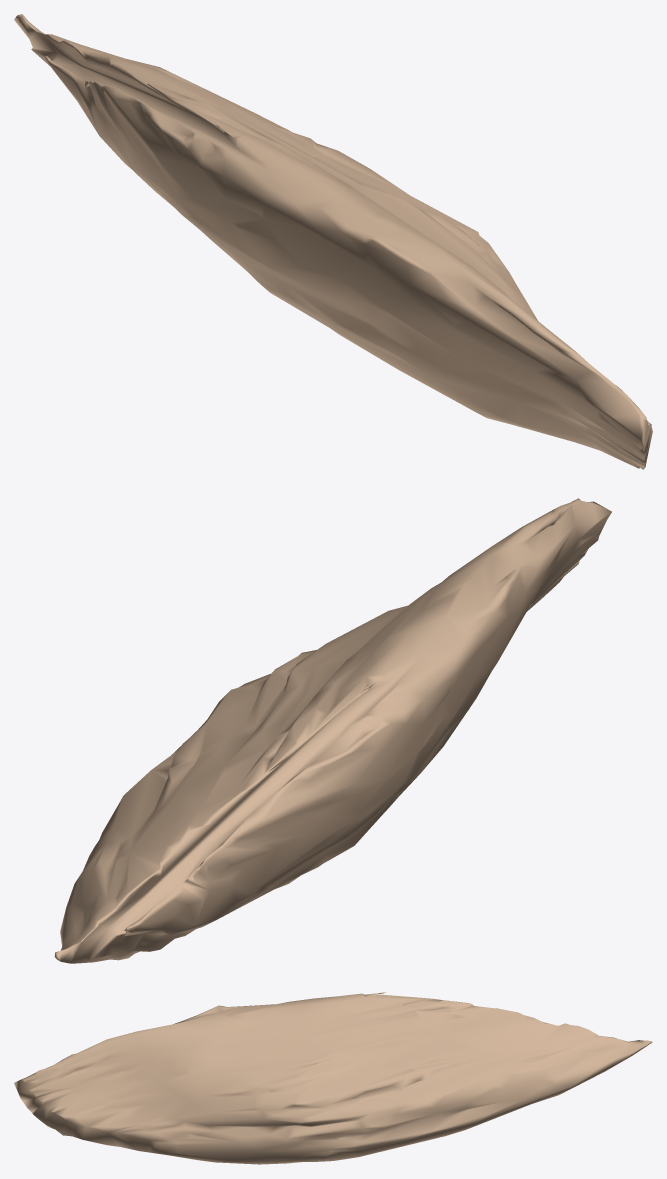
3 renders of one model, top to bottom at view 1: azimuth 30°, elevation 25°; view 2: azimuth 150°, elevation 25°; view 3: azimuth 270°, elevation 25°, orthographic. The views are drawn at different scales.
Visible parts, largest first — view 1: 右侧阔筋膜张肌; view 2: 右侧阔筋膜张肌; view 3: 右侧阔筋膜张肌.
Boxes of the visible parts, x1,y1,x2,y2 form: 右侧阔筋膜张肌: (14,14,652,469); 右侧阔筋膜张肌: (54,498,611,963); 右侧阔筋膜张肌: (14,992,652,1164).
Size of the model in its own units: 0.0577 by 0.0519 by 0.238.
